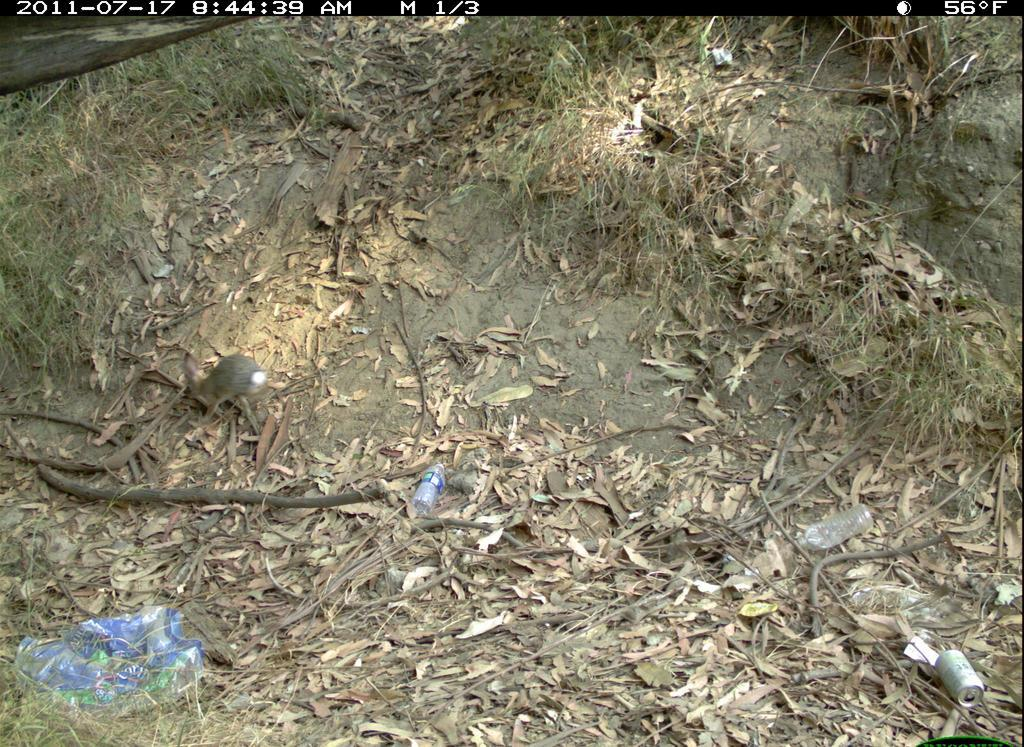rabbit: (180, 347, 268, 429)
